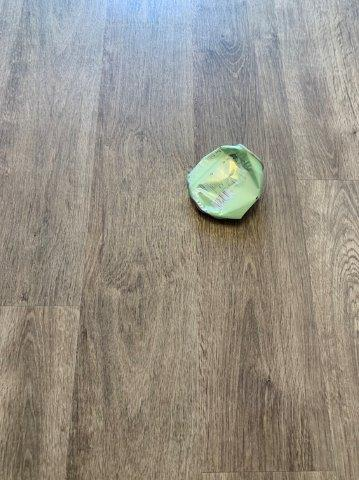kaleng: (188, 145, 265, 219)
